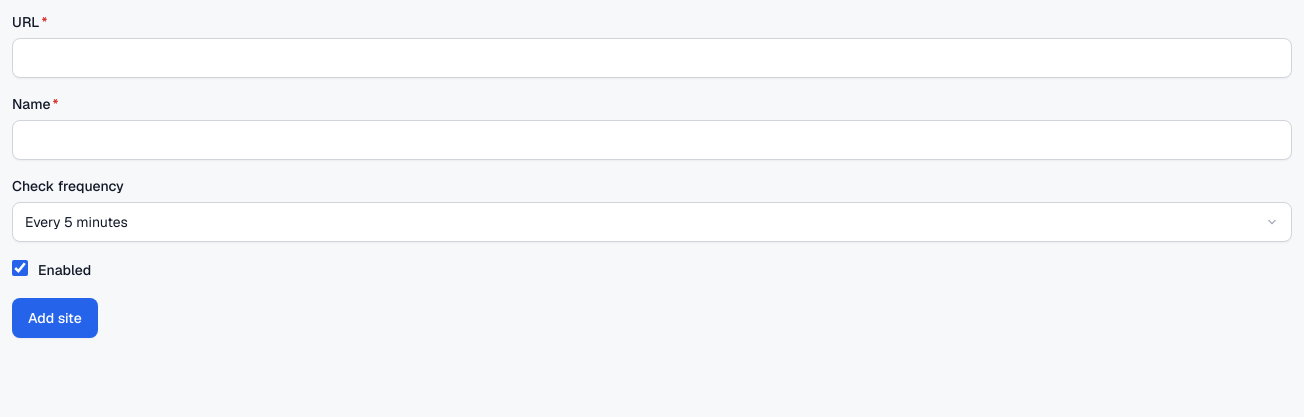
Test: SiteForm › create mode › shows the server's validation message inline when the create request is rejected
Type "http://127.0.0.1" into the field labelled "URL" at coordinates (652, 58), box [12,38,1292,78]
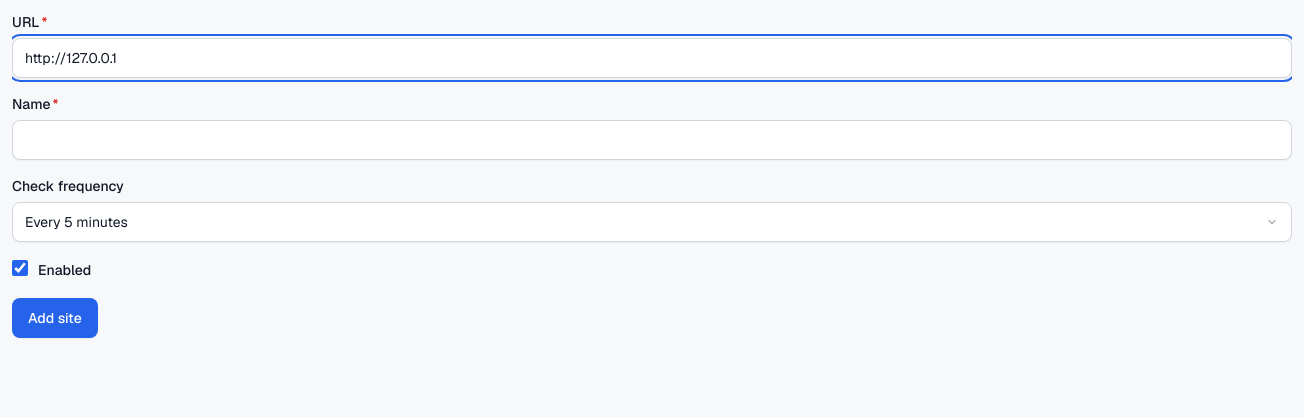
Type "Local" into the field labelled "Name" at coordinates (652, 140), box [12,120,1292,160]
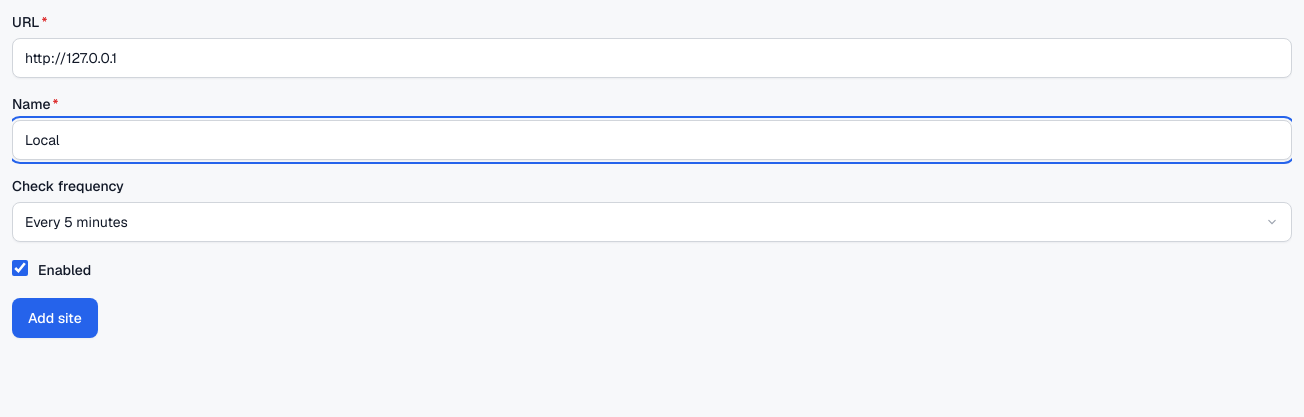
Click the button "Add site" at coordinates (55, 318), box [12,298,98,338]
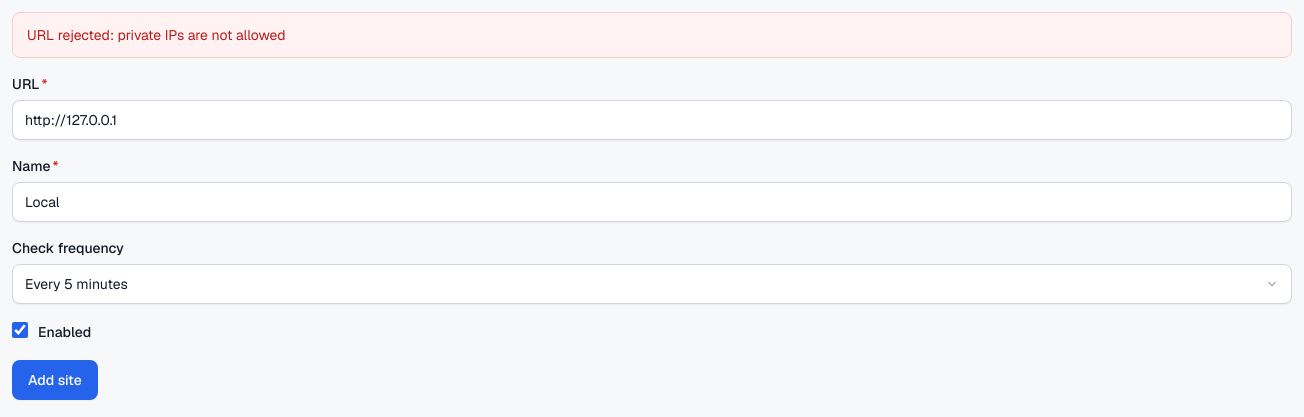
Expected: the message reads "URL rejected: private IPs are not allowed", [27,26,286,44]
